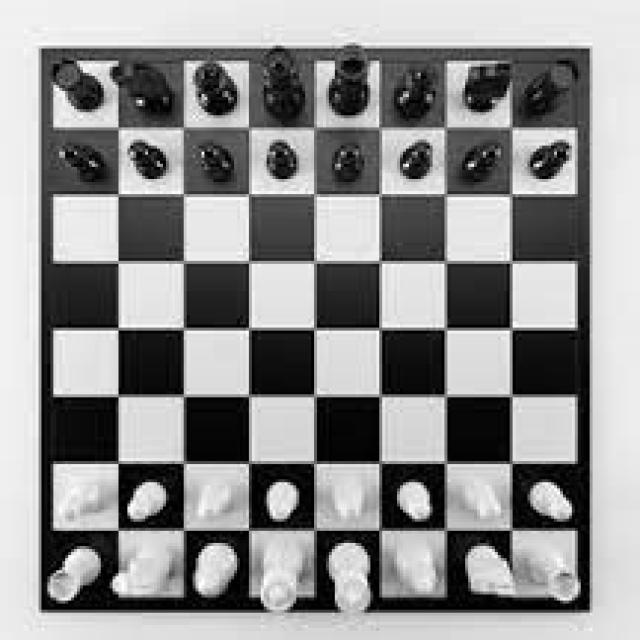corners: (578, 597, 597, 619), (34, 599, 52, 619), (582, 40, 600, 57), (36, 39, 52, 56)
